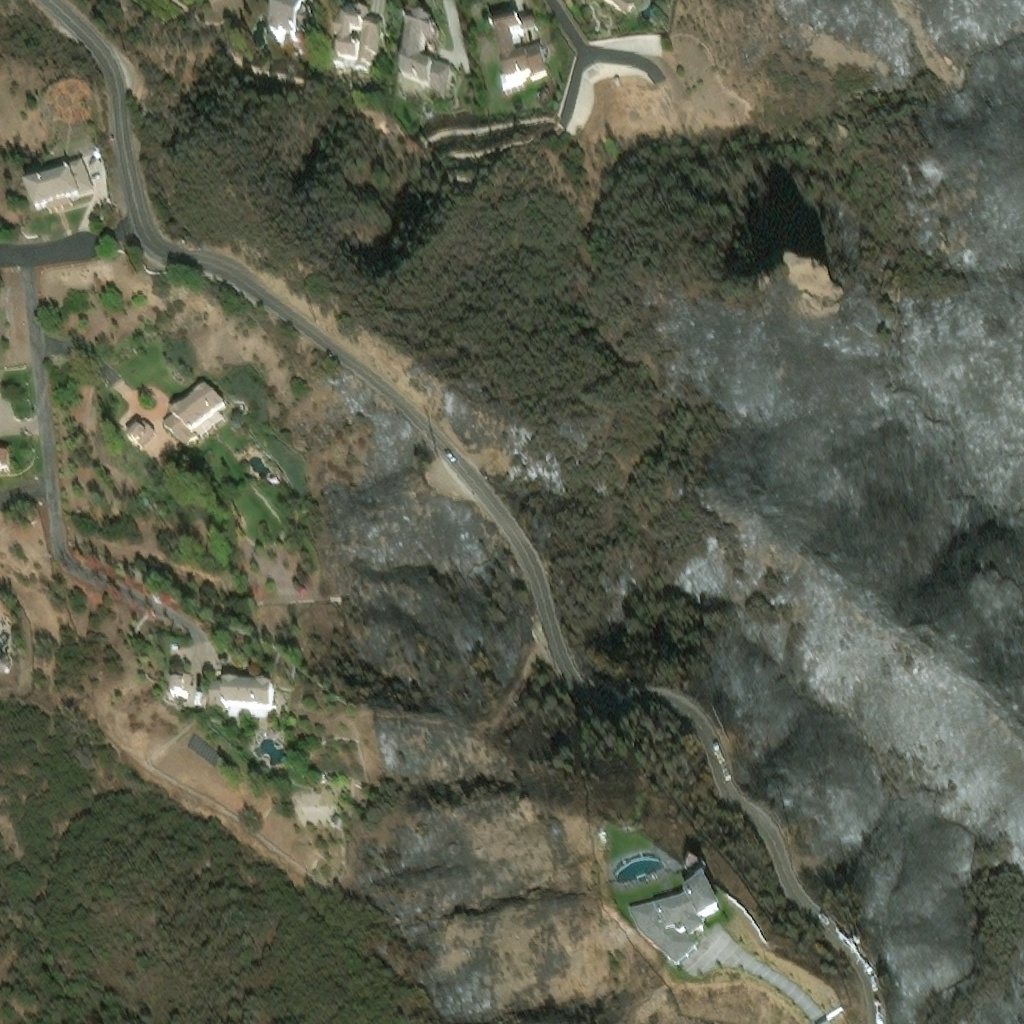0 no-damage: (629, 875, 723, 970), (161, 380, 225, 448), (488, 8, 547, 80), (23, 157, 95, 213), (395, 11, 450, 83), (326, 0, 384, 65), (207, 675, 271, 717), (291, 784, 338, 826), (261, 0, 315, 35), (183, 730, 220, 763), (126, 421, 156, 447), (601, 0, 641, 18), (681, 852, 706, 876), (0, 446, 10, 471), (168, 677, 182, 694), (0, 649, 12, 667), (266, 471, 279, 483), (173, 695, 185, 705), (194, 690, 201, 703)
4 un-classified: (247, 579, 259, 591), (108, 585, 118, 596), (90, 555, 99, 565), (159, 592, 168, 600), (106, 567, 115, 574), (92, 149, 100, 156), (127, 596, 133, 604), (126, 575, 133, 581)
